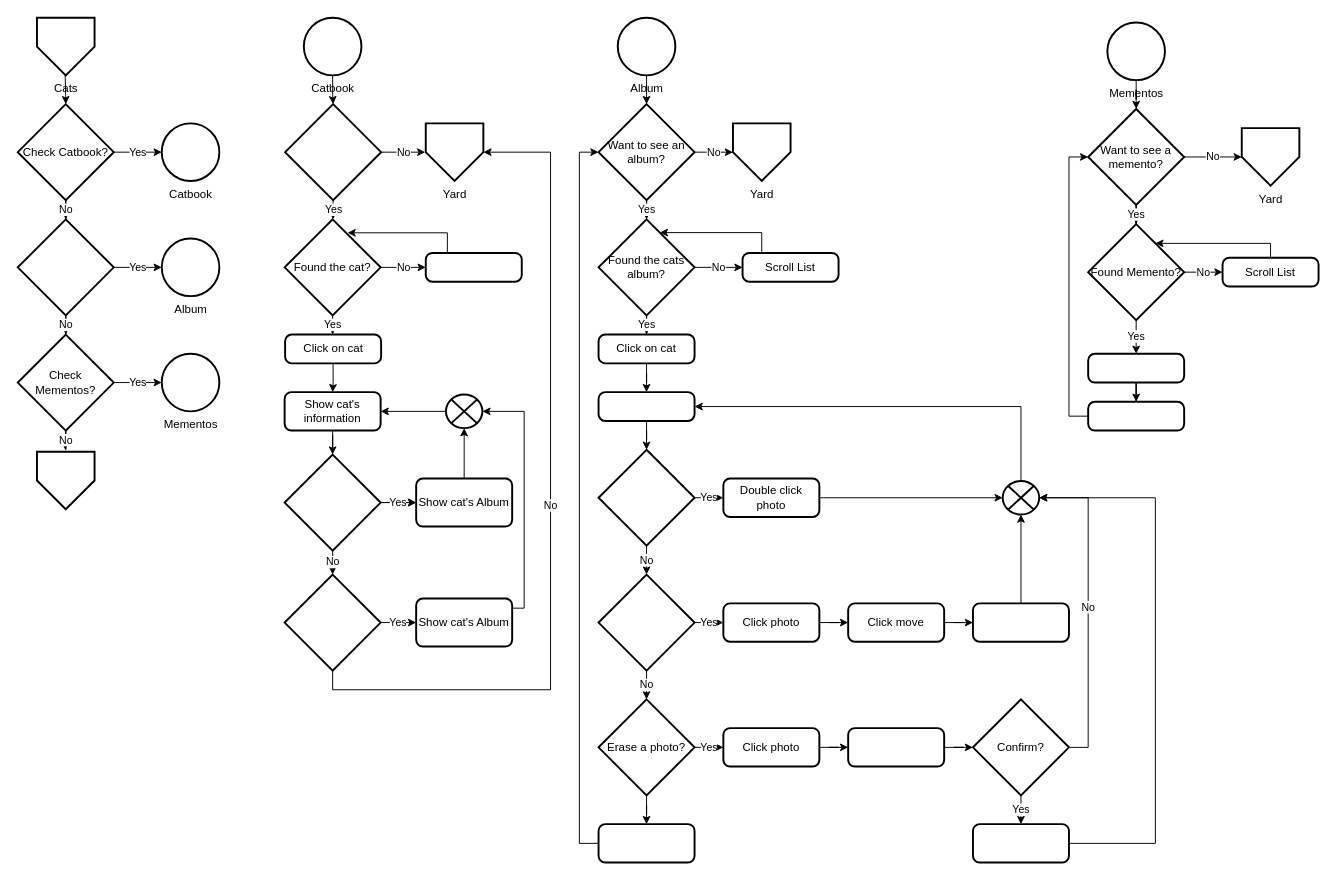
Image size: 1335x879. Some labels were removed from this diagram. The centre of each missing label's shape, as x and y in pixels:
Check Album?: (x=65, y=267)
Check cat's Album?: (x=332, y=502)
Check cat's Memento?: (x=332, y=622)
Click erase: (x=896, y=747)
Click on memento: (x=1136, y=367)
Erase photo: (x=1020, y=843)
Exit this album: (x=646, y=843)
Find a cat?: (x=333, y=152)
MainMenu: (x=65, y=480)
Move a phto to another album?: (x=646, y=622)
Select new album: (x=1020, y=622)
Select/Chage Best Shot?: (x=646, y=497)
Show memento: (x=1136, y=415)
Show Photos: (x=646, y=406)
Swipe List: (x=473, y=267)
